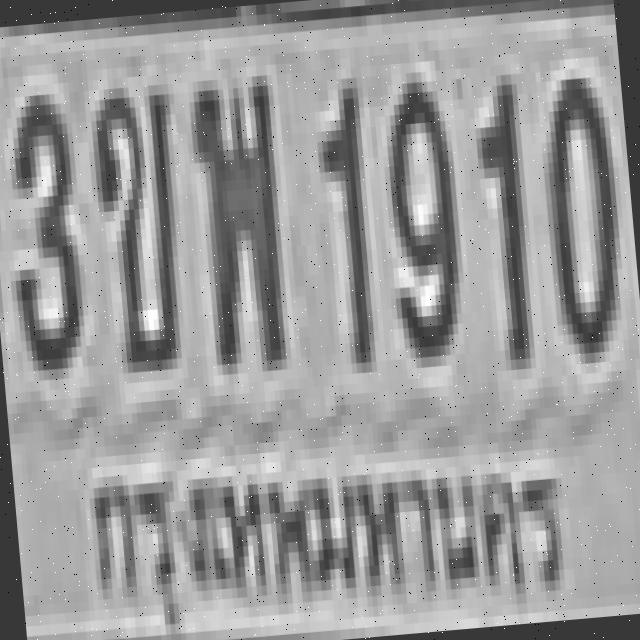0: (535, 66, 623, 345)
1: (470, 68, 534, 356), (311, 73, 375, 360)
11KhorKhai: (82, 74, 186, 364)
3: (0, 83, 81, 362)
39PhorPan: (184, 66, 288, 366)
9: (376, 70, 458, 349)
Bangkok: (60, 401, 591, 640)
